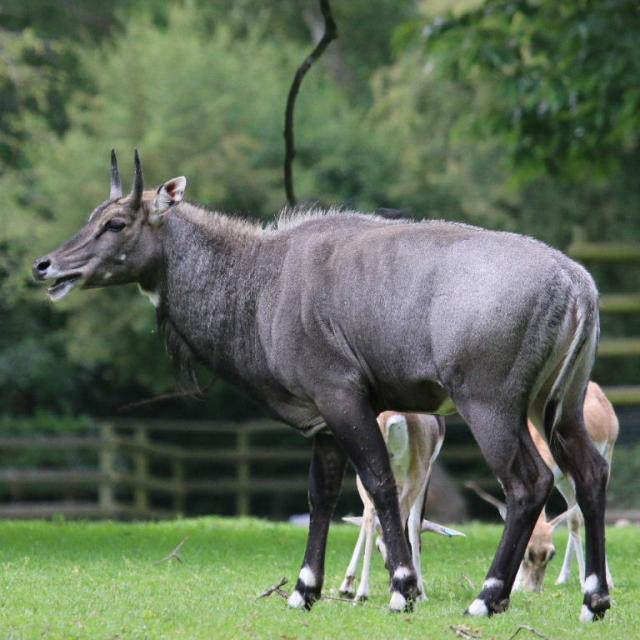Boar: (36, 169, 601, 617)
